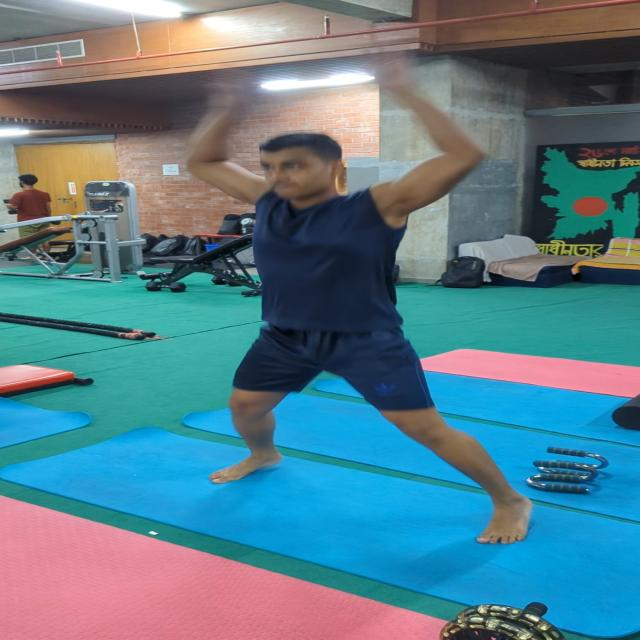Normal_JumpingJacks: (156, 72, 559, 554)
